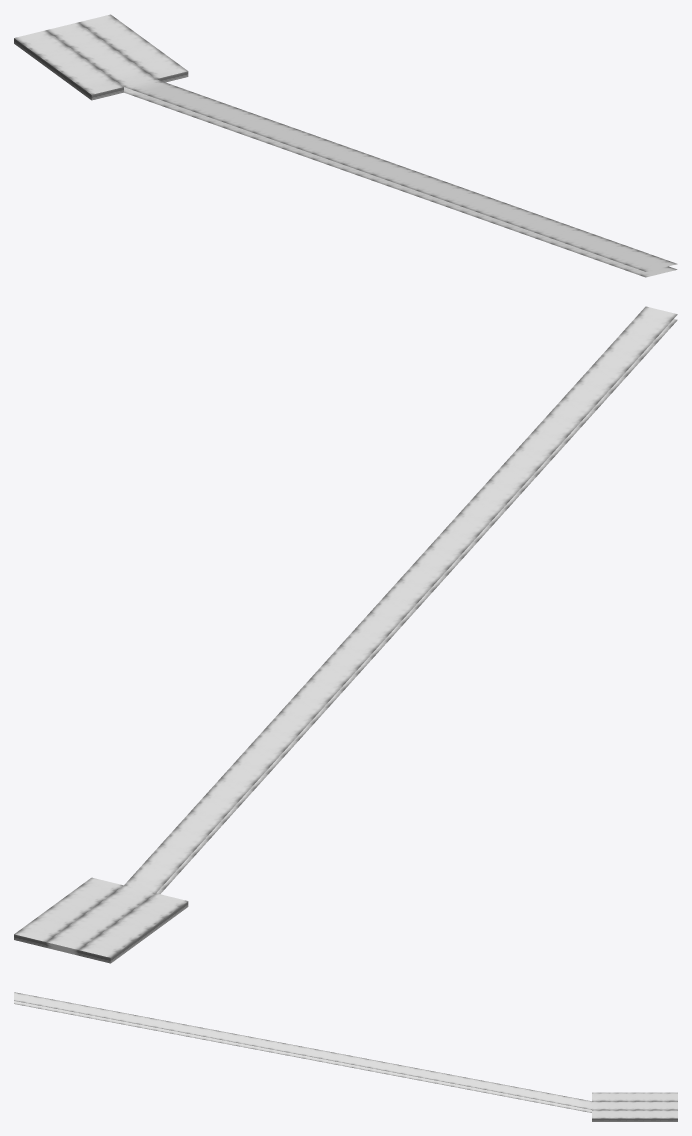
The model's file is CourseWinter_Floor_9.fbx.
The picture shows the model from 3 angles, top to bottom: view 1: azimuth 30°, elevation 25°; view 2: azimuth 150°, elevation 25°; view 3: azimuth 270°, elevation 25°; orthographic projection. The views are drawn at different scales.
Parts seen in each view (by area): view 1: polySurface109; view 2: polySurface109; view 3: polySurface109.
Part boxes in pixels (x1,y1,x2,y2): polySurface109: [14, 14, 677, 277]; polySurface109: [14, 306, 677, 963]; polySurface109: [14, 992, 677, 1121].
Size of the model in its own units: 18 by 36 by 193.
1 material, 1 textured.
